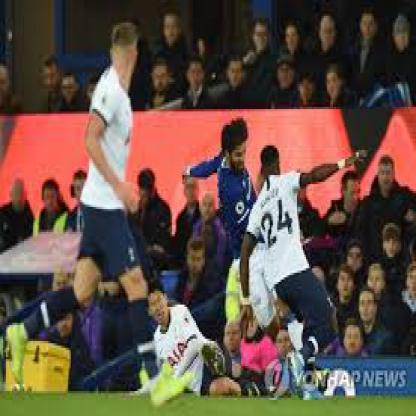Fall_Down: (126, 280, 270, 400)
